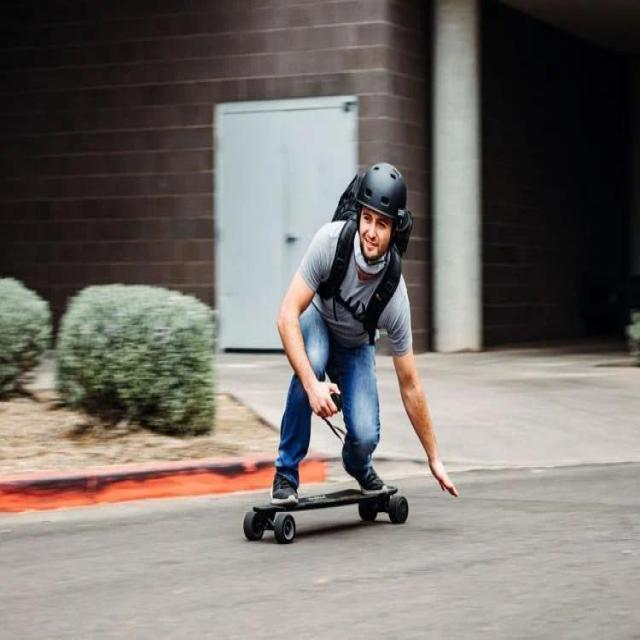Helmet: (354, 160, 410, 265)
